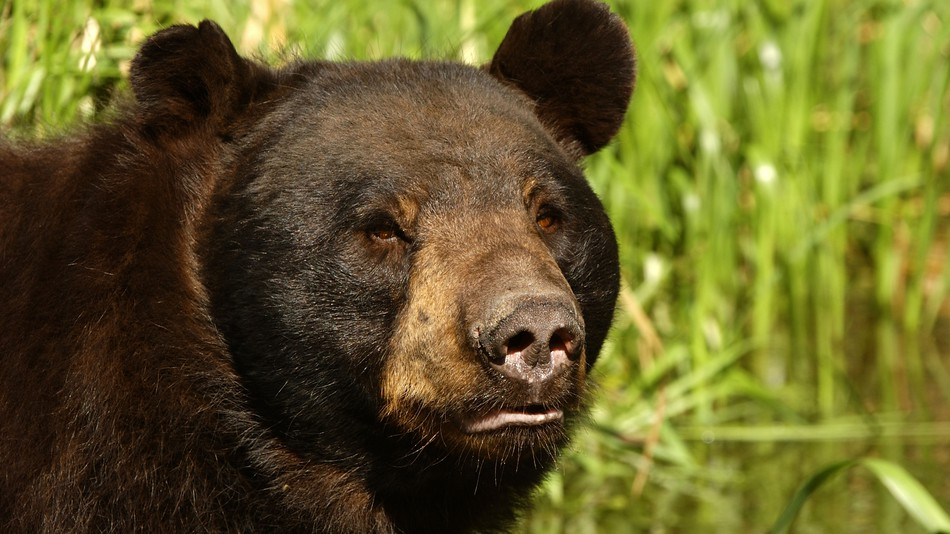bear: (124, 3, 641, 465)
